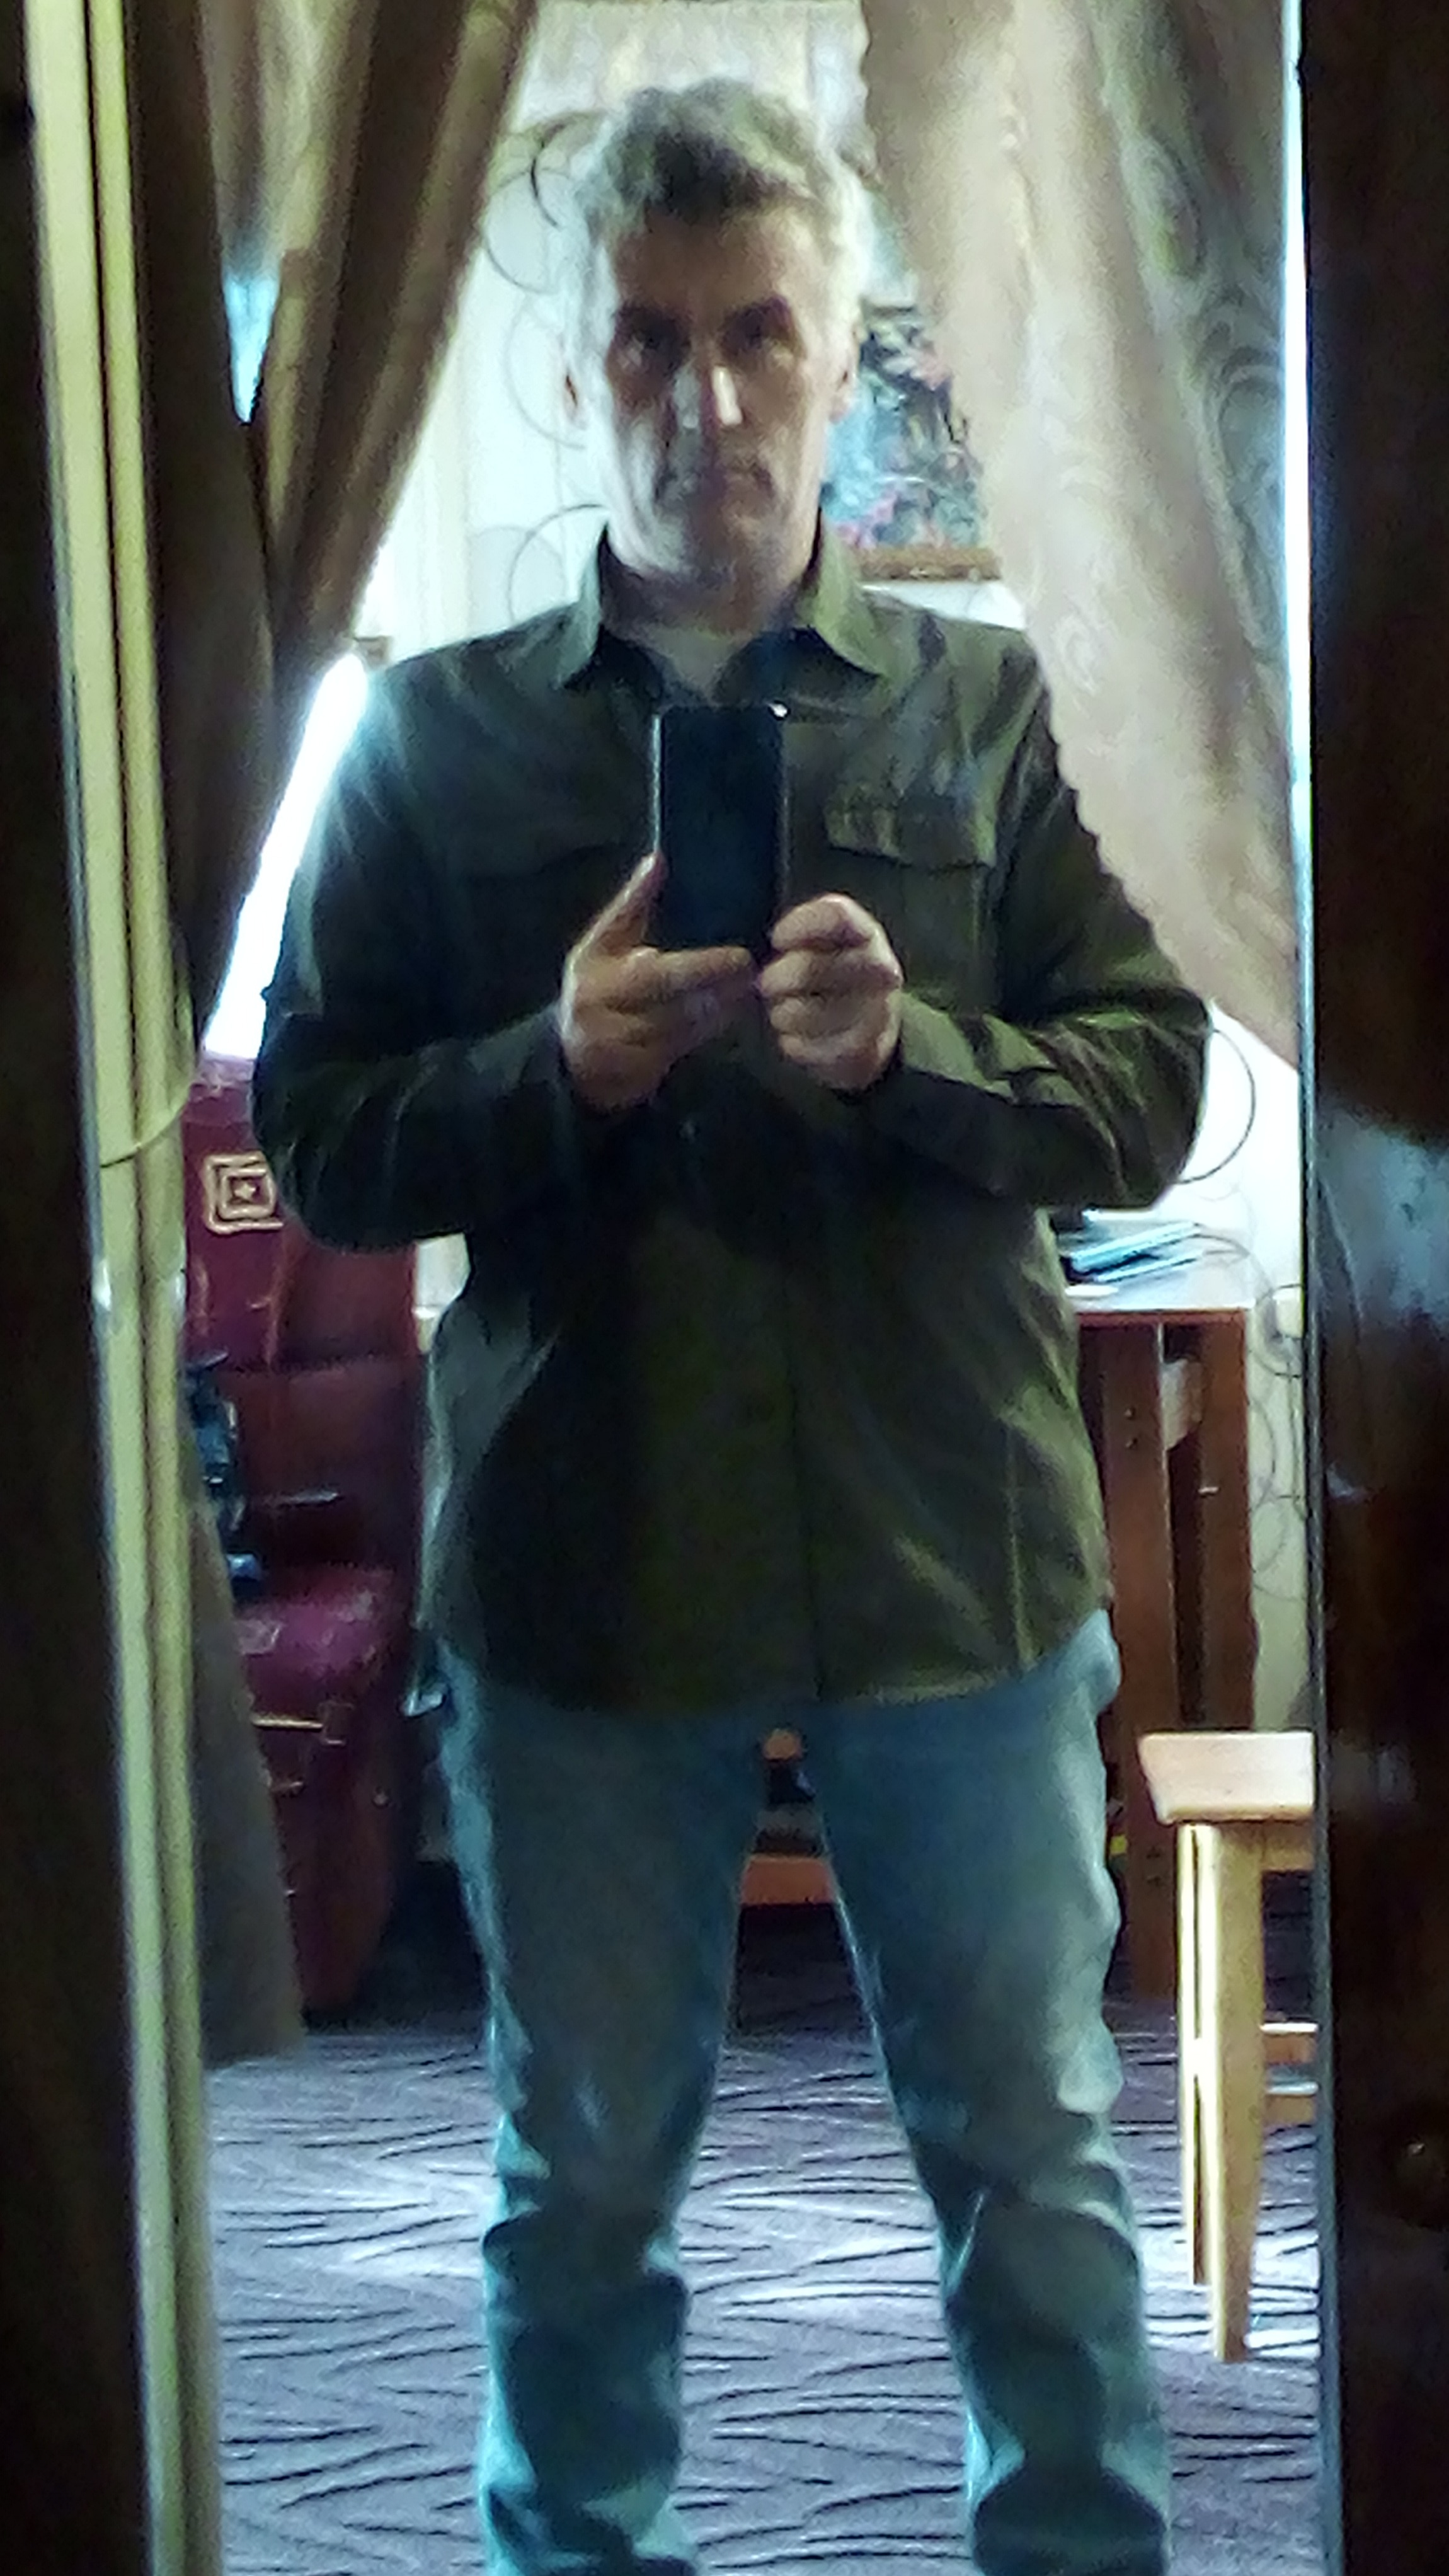shirts: (274, 556, 1208, 1746)
